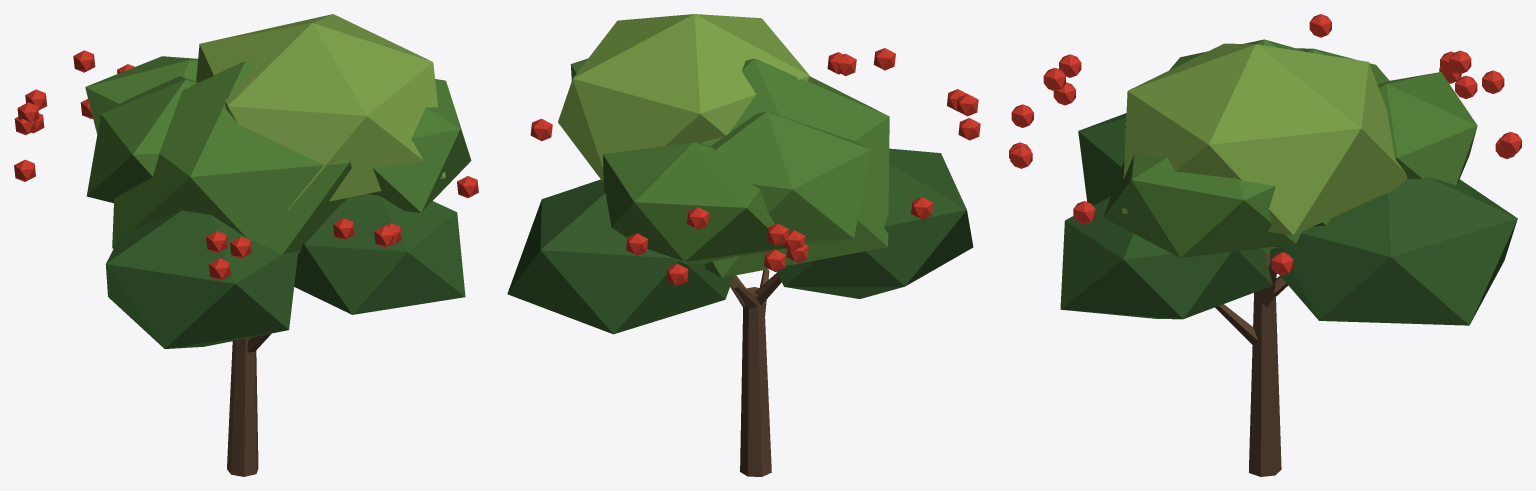
The model's file is UM_Apfelbaum.fbx.
The picture shows the model from 3 angles, left to right: view 1: azimuth 30°, elevation 25°; view 2: azimuth 150°, elevation 25°; view 3: azimuth 270°, elevation 25°; orthographic projection. The views are drawn at different scales.
Parts seen in each view (by area): view 1: UM_Apfelbaum; view 2: UM_Apfelbaum; view 3: UM_Apfelbaum.
Part boxes in pixels (x1,y1,x2,y2): UM_Apfelbaum: (14,14,478,476); UM_Apfelbaum: (507,14,980,476); UM_Apfelbaum: (1009,14,1521,476).
Bounding box in the file's own units: 5.02 × 5.02 × 5.08.
